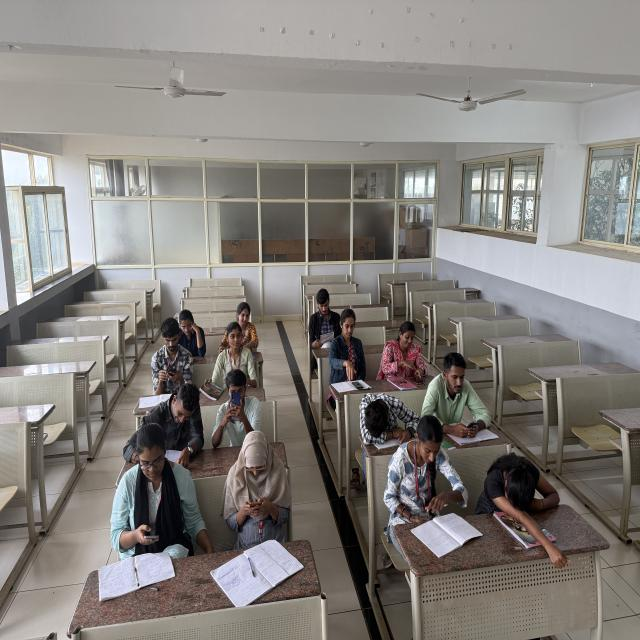Sleeping: (473, 447, 564, 521), (358, 388, 423, 443)
Using Phone: (108, 429, 210, 559), (218, 428, 295, 539), (422, 351, 498, 438), (211, 371, 265, 442), (146, 318, 193, 392)
Writing: (306, 291, 344, 351)
